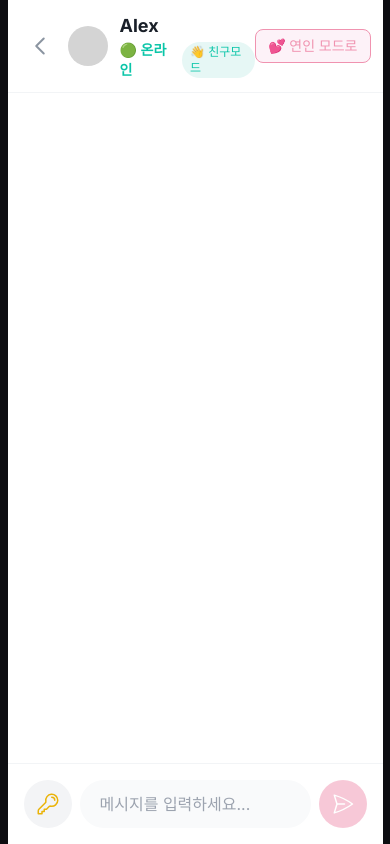
Scenario: ChatScreen › should send message when user types and clicks send
Type "Hello" into the field with placeholder "메시지를 입력하세요...".
click(195, 804); type("Hello")  # box [80,780,310,828]
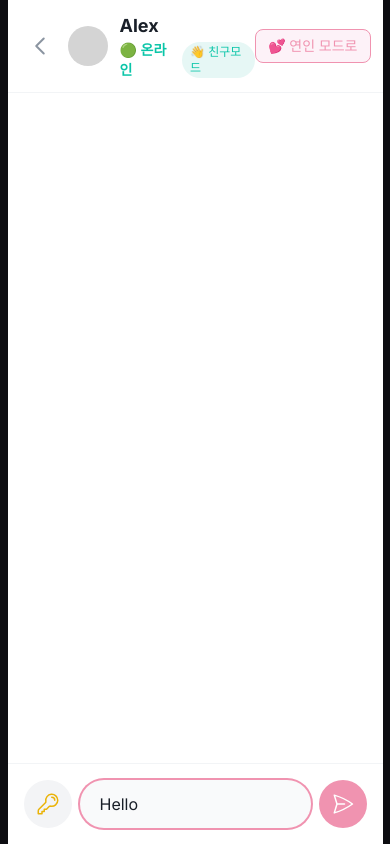
Click the 4th button.
click(342, 804)  # box [318,780,366,828]
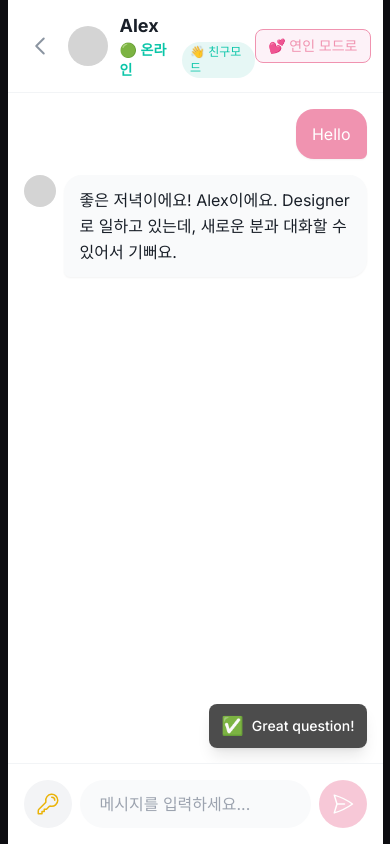
Expected: the text "Hello" is shown, [312,121,350,147]
